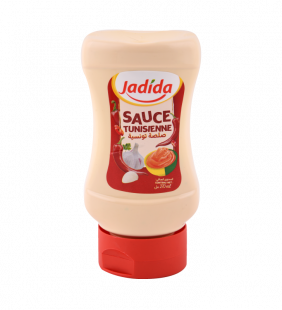JADIDA: (80, 29, 202, 279)
